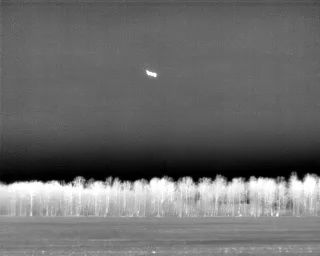DRONE: (142, 66, 161, 82)
